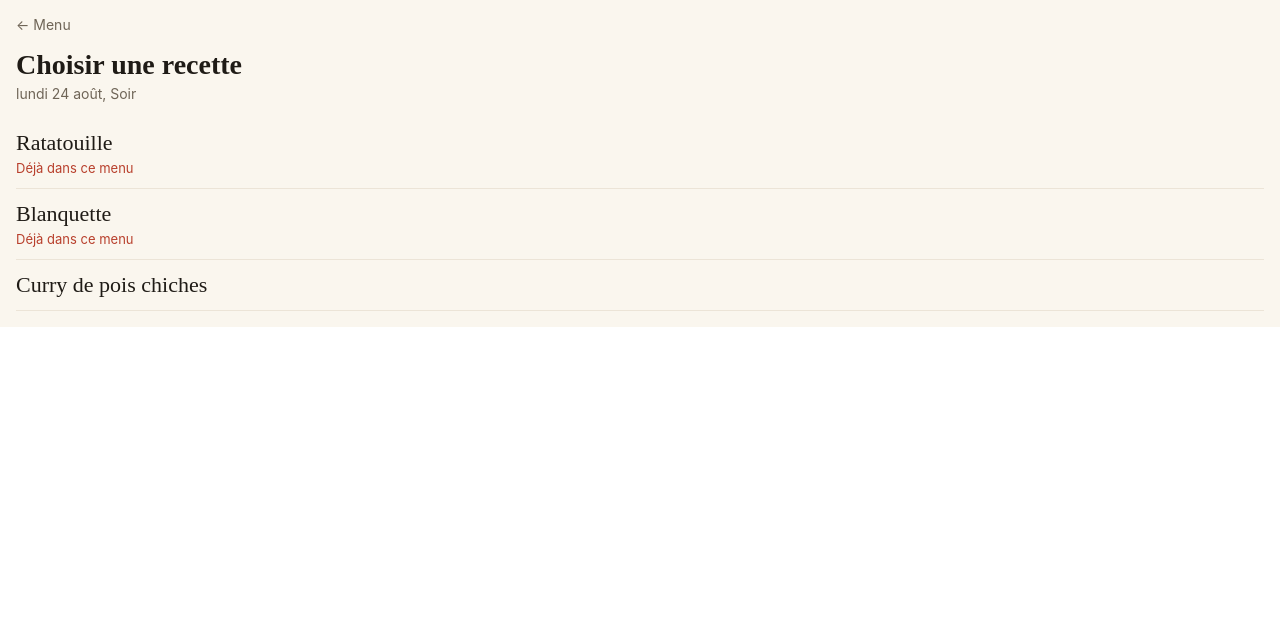
Test: SlotChoiceContainer › revenir par « ← Menu » laisse le brouillon tel qu’il était
Click the link "← Menu". click: x=43, y=24
box: x1=16 y1=16 x2=71 y2=33
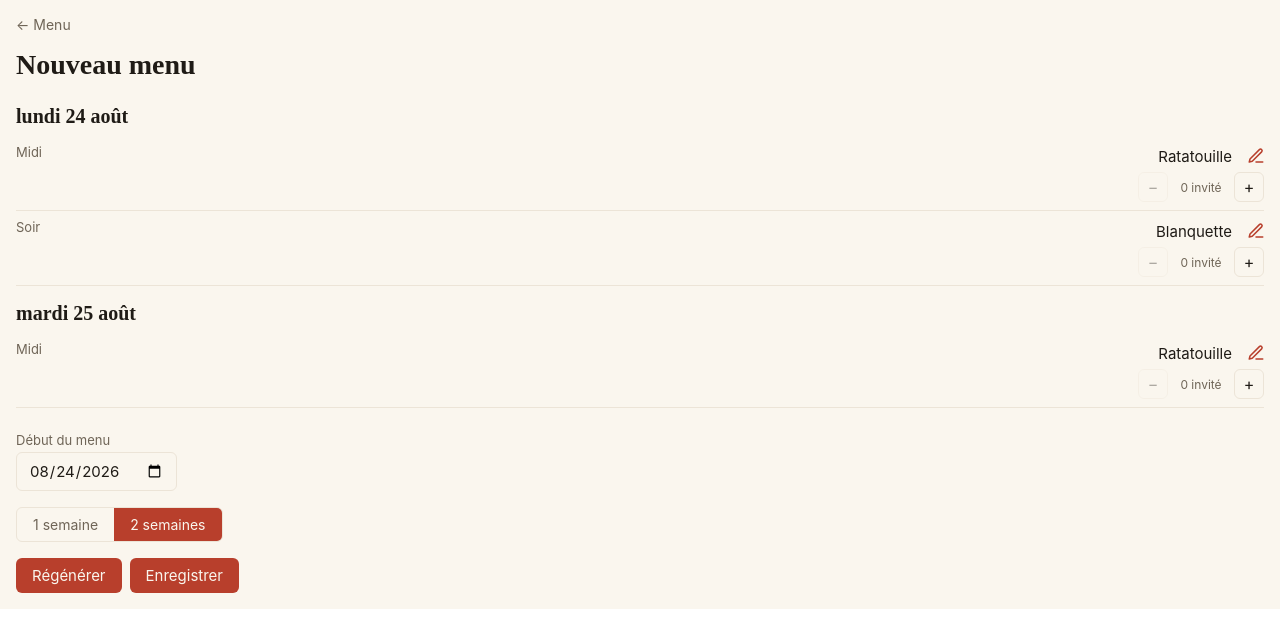
Expected: the button "Régénérer" is shown, x1=16 y1=558 x2=122 y2=593
